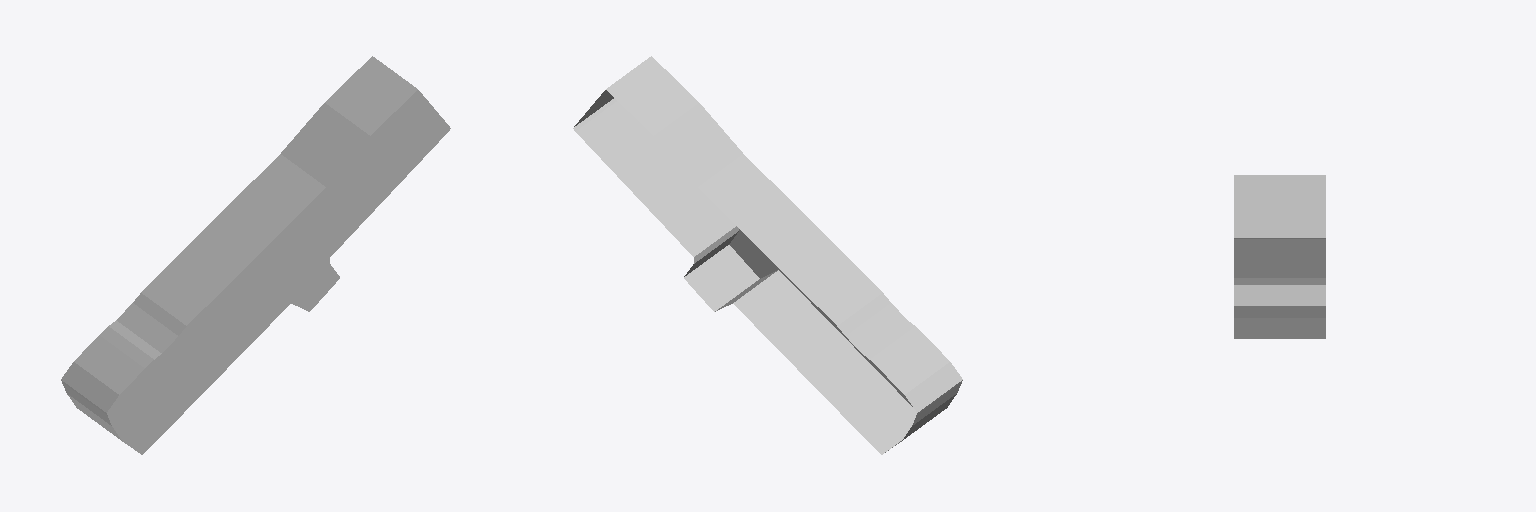
File: TextureModel_BLD_Body_3.obj
3 renders of one model, left to right at view 1: azimuth 30°, elevation 25°; view 2: azimuth 150°, elevation 25°; view 3: azimuth 270°, elevation 25°, orthographic.
Bounding box in the file's own units: 67 × 55.5 × 15.41.